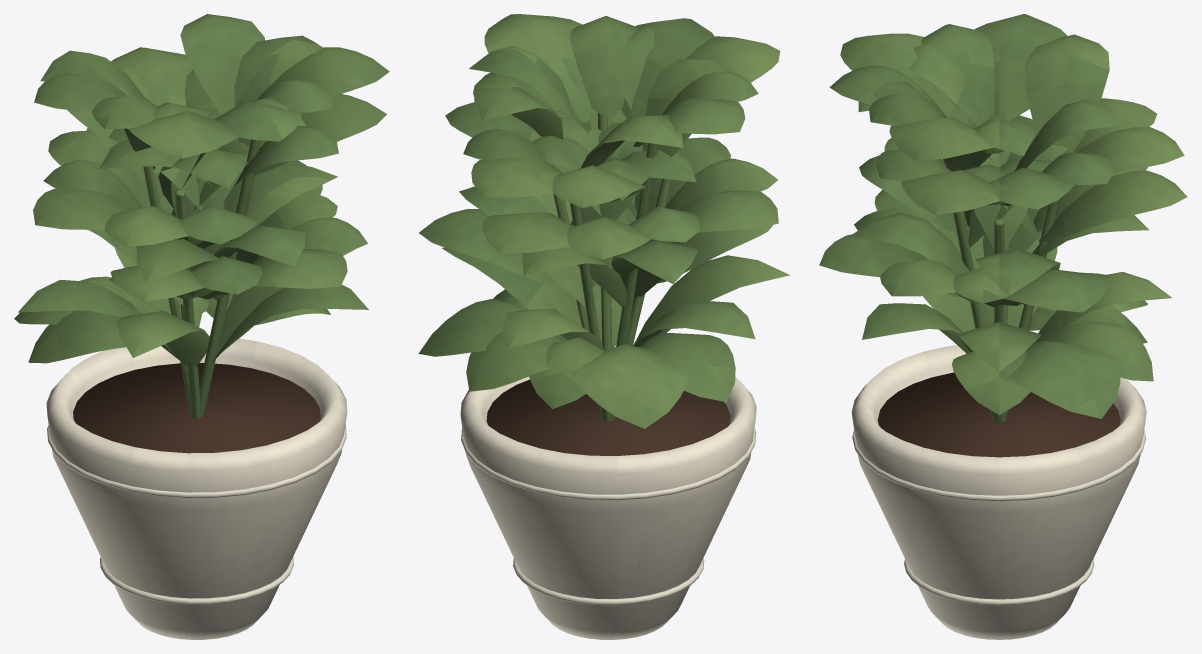
The model's file is WC_CAFE_Planter_Floor_A.glb.
3 views of the same model, side by side, from view 1: azimuth 30°, elevation 25°; view 2: azimuth 150°, elevation 25°; view 3: azimuth 270°, elevation 25° (orthographic). The views are drawn at different scales.
Visible parts, largest first — view 1: WC_CAFE_Planter_Floor_A_PolishedRenderMesh; view 2: WC_CAFE_Planter_Floor_A_PolishedRenderMesh; view 3: WC_CAFE_Planter_Floor_A_PolishedRenderMesh.
Part boxes in pixels (x1,y1,x2,y2): WC_CAFE_Planter_Floor_A_PolishedRenderMesh: [14, 14, 389, 639]; WC_CAFE_Planter_Floor_A_PolishedRenderMesh: [418, 14, 789, 639]; WC_CAFE_Planter_Floor_A_PolishedRenderMesh: [819, 14, 1187, 639].
Size of the model in its own units: 0.6836 by 1.08 by 0.6621.
Materials: 6 (5 with a texture image).
